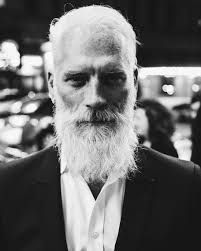no-mask: (44, 27, 150, 162)
